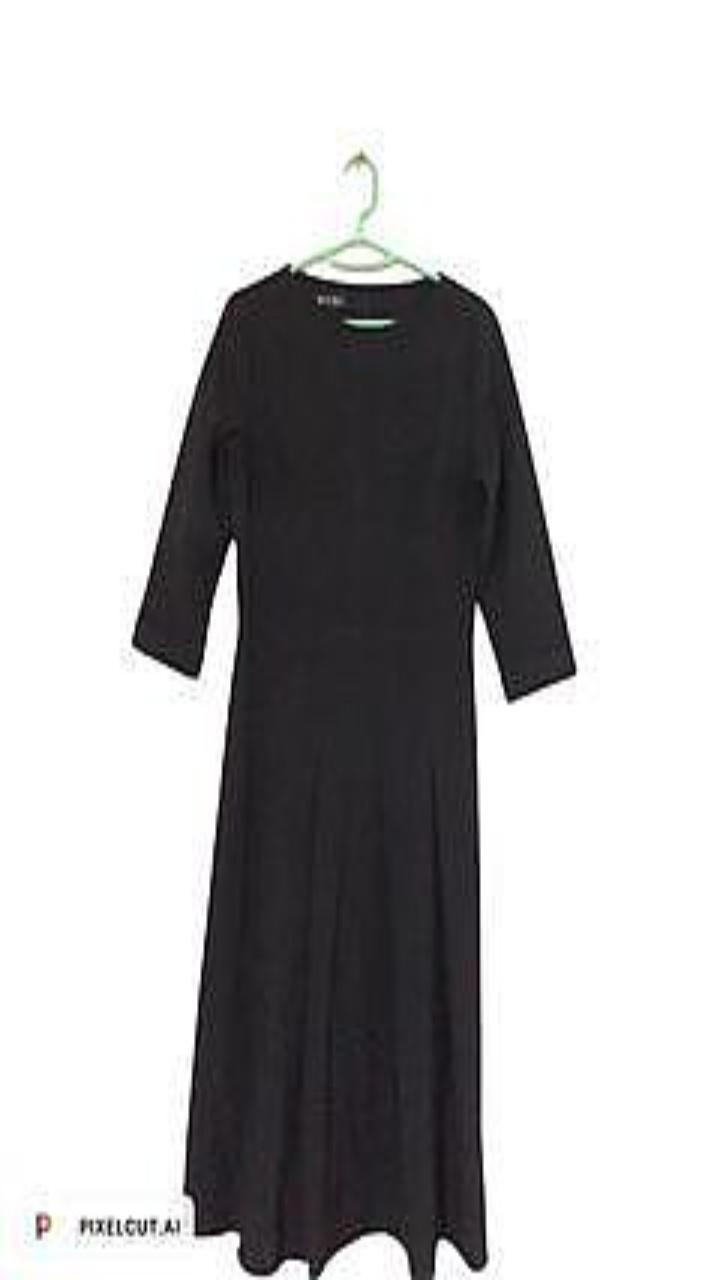Dresses: (133, 265, 574, 1279)
